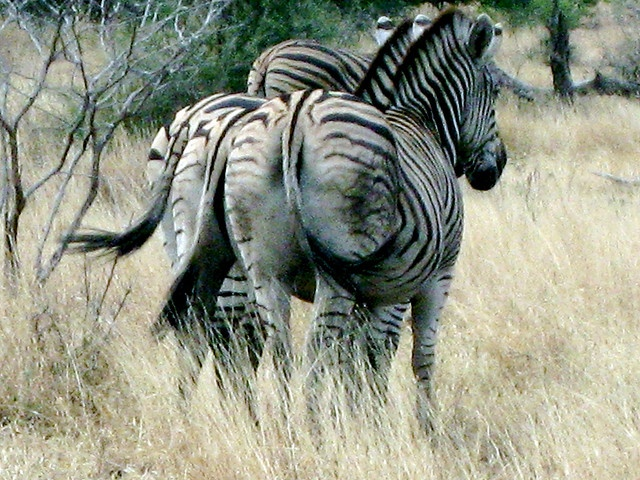zebra: (72, 16, 436, 411), (225, 11, 509, 436), (244, 39, 384, 99)
